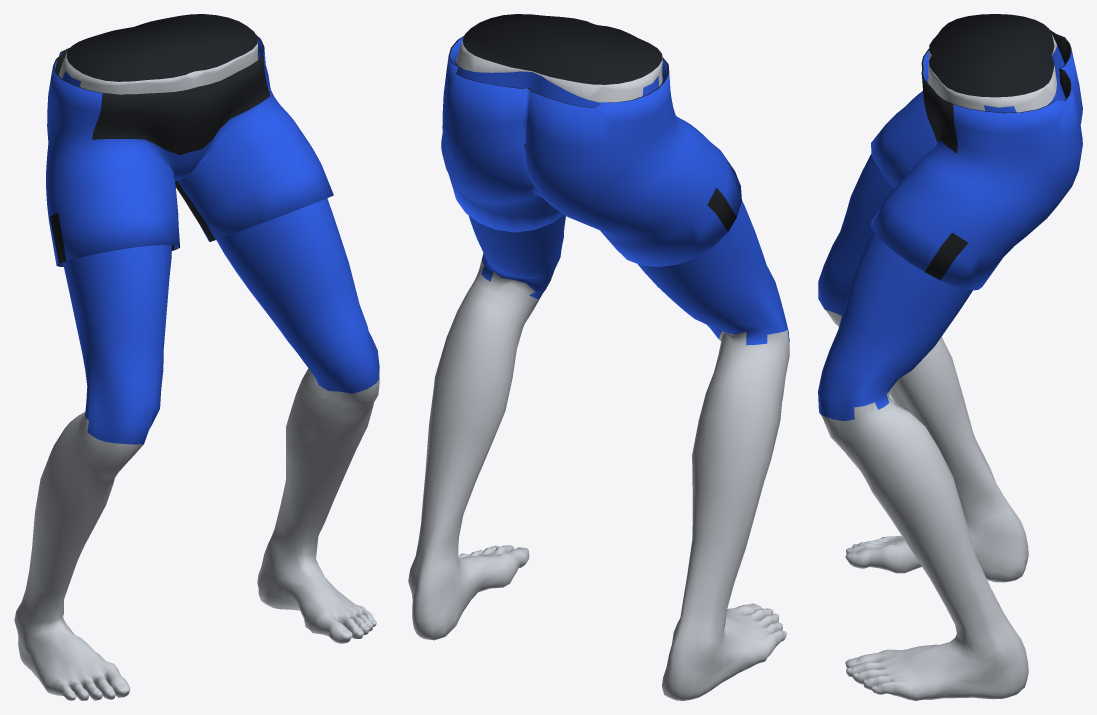
The model's file is workout-lower.glb.
3 views of the same model, side by side, from view 1: azimuth 30°, elevation 25°; view 2: azimuth 150°, elevation 25°; view 3: azimuth 270°, elevation 25° (orthographic). The views are drawn at different scales.
Visible parts, largest first — view 1: SM_Athlete_Body; view 2: SM_Athlete_Body; view 3: SM_Athlete_Body.
Boxes of the visible parts, x1=… form: SM_Athlete_Body: x1=14, y1=14, x2=379, y2=700; SM_Athlete_Body: x1=408, y1=14, x2=789, y2=700; SM_Athlete_Body: x1=818, y1=14, x2=1082, y2=700.
Bounding box in the file's own units: 1.12 × 2 × 0.826.
